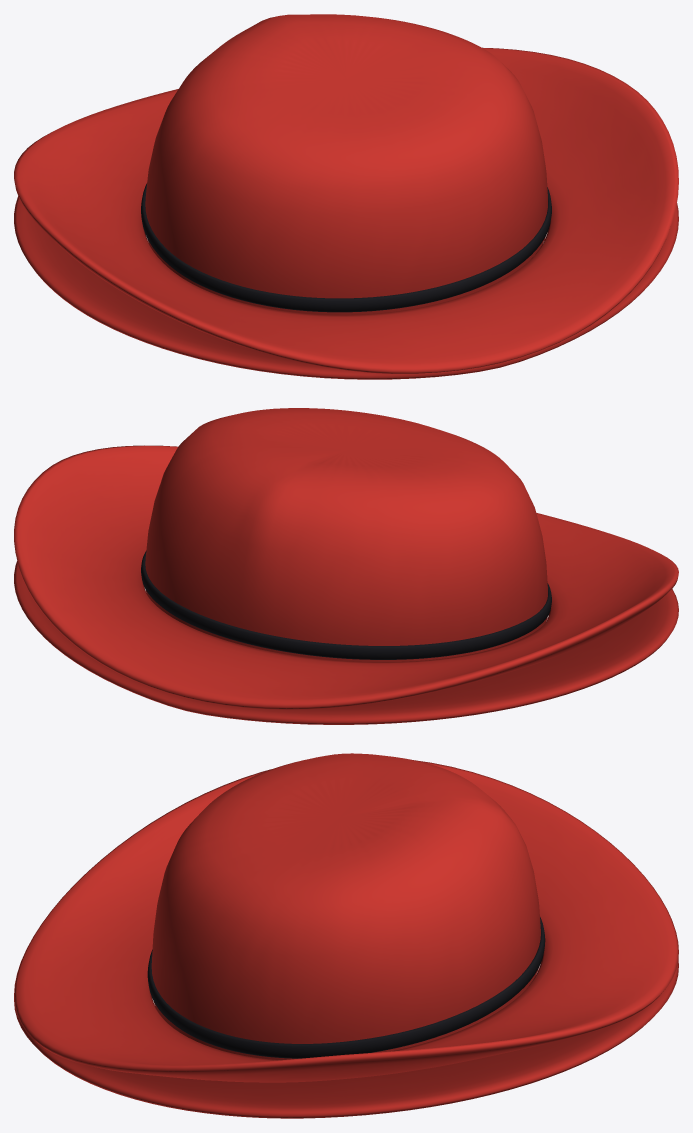
The model's file is hw_cowboy.glb.
The picture shows the model from 3 angles, top to bottom: view 1: azimuth 30°, elevation 25°; view 2: azimuth 150°, elevation 25°; view 3: azimuth 270°, elevation 25°; orthographic projection. The views are drawn at different scales.
Parts seen in each view (by area): view 1: hw_cowboy, hw_cowboy_brim, hw_cowboy@bush_brim, hw_cowboy_band; view 2: hw_cowboy, hw_cowboy_brim, hw_cowboy@bush_brim, hw_cowboy_band; view 3: hw_cowboy, hw_cowboy_brim, hw_cowboy@bush_brim, hw_cowboy_band.
Boxes of the visible parts, box(x1,y1,x2,y2) form: hw_cowboy: box(145, 14, 547, 314); hw_cowboy_brim: box(14, 47, 678, 373); hw_cowboy@bush_brim: box(14, 196, 678, 379); hw_cowboy_band: box(141, 183, 551, 312); hw_cowboy: box(145, 408, 547, 661); hw_cowboy_brim: box(14, 445, 678, 709); hw_cowboy@bush_brim: box(14, 561, 678, 724); hw_cowboy_band: box(141, 551, 551, 659); hw_cowboy: box(151, 753, 540, 1060); hw_cowboy_brim: box(14, 760, 678, 1082); hw_cowboy@bush_brim: box(14, 959, 678, 1118); hw_cowboy_band: box(147, 917, 545, 1058).
Size of the model in its own units: 1.33 by 0.4203 by 1.24.
